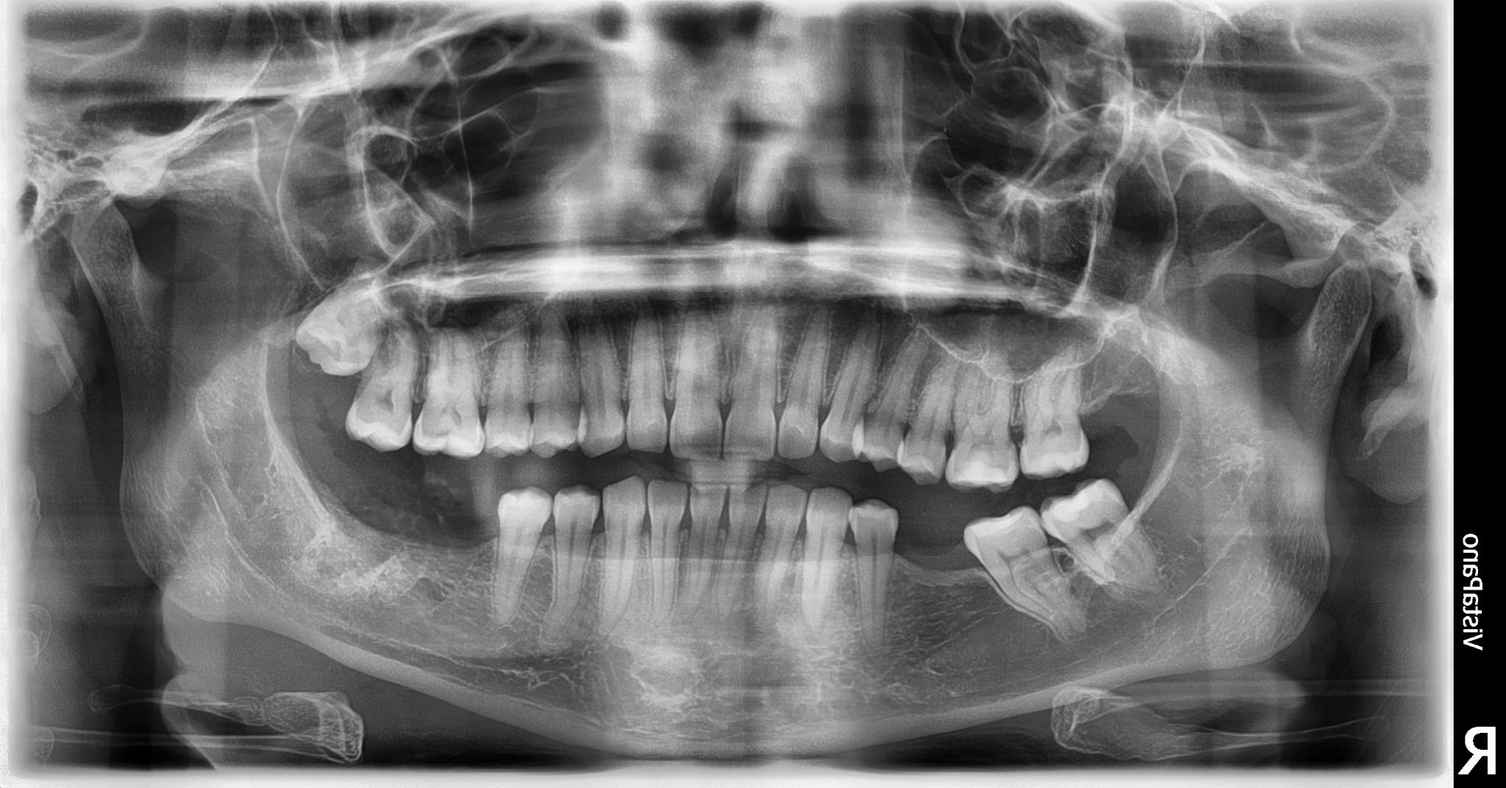Premolars: (503, 251, 1506, 620), (216, 141, 635, 535), (192, 189, 593, 484)
